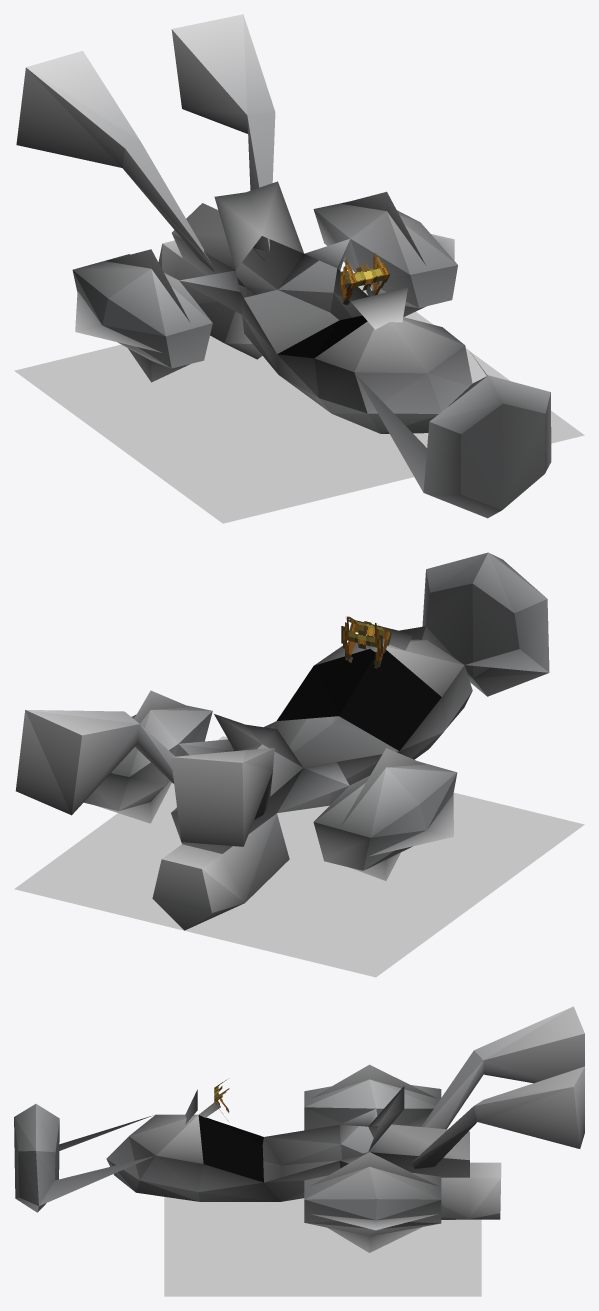
File: velo_chopper_template.fbx
3 views of the same model, one above another, from view 1: azimuth 30°, elevation 25°; view 2: azimuth 150°, elevation 25°; view 3: azimuth 270°, elevation 25° (orthographic). The views are drawn at different scales.
Parts seen in each view (by area): view 1: velo_chopper_template; view 2: velo_chopper_template; view 3: velo_chopper_template.
Part boxes in pixels (bbox=[...]): velo_chopper_template: bbox=[14, 14, 584, 523]; velo_chopper_template: bbox=[14, 552, 584, 977]; velo_chopper_template: bbox=[14, 1006, 584, 1296].
Size of the model in its own units: 210 by 127 by 360.
Materials: 3 (2 with a texture image).
